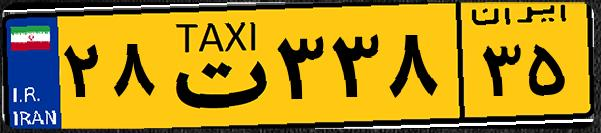2: (57, 26, 110, 100)
3: (270, 28, 330, 110), (330, 28, 385, 110), (475, 38, 525, 113)
5: (525, 38, 570, 115)
8: (385, 28, 445, 110), (110, 28, 158, 98)
ت: (158, 12, 270, 120)
